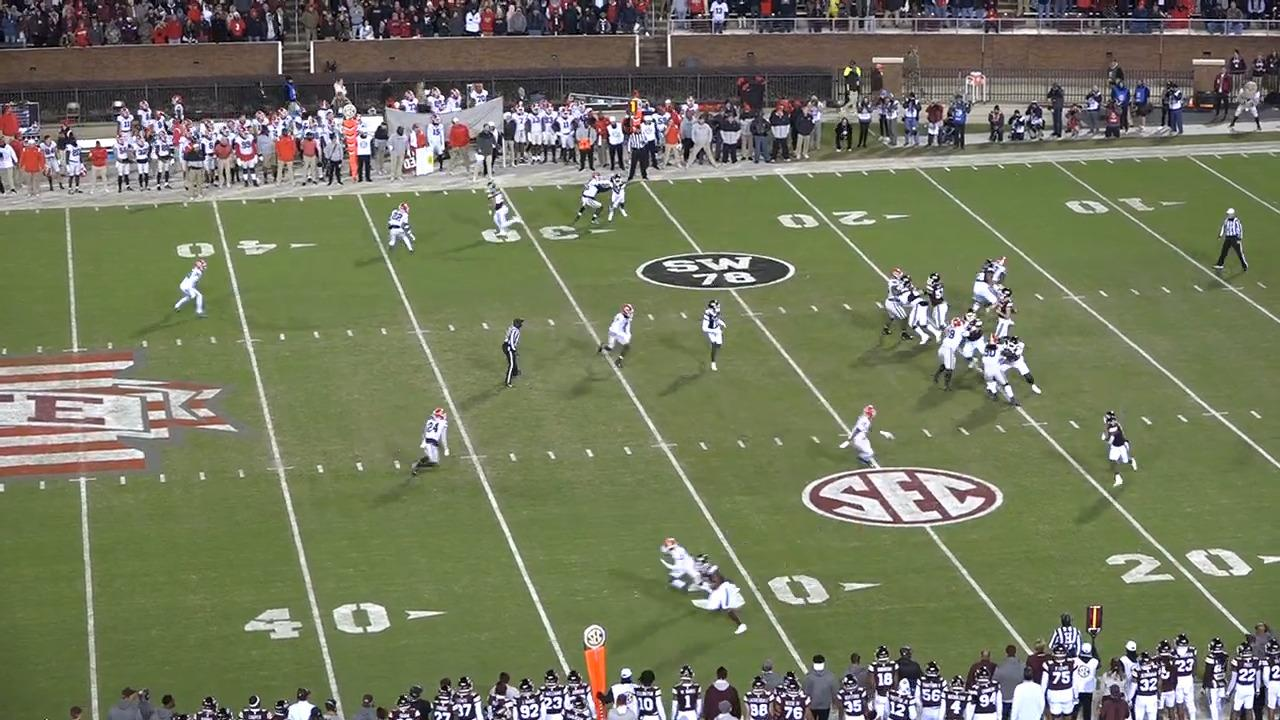defense: (838, 406, 886, 475), (412, 406, 455, 480), (930, 315, 968, 392), (973, 340, 1014, 411), (657, 540, 703, 601), (599, 305, 638, 372), (169, 259, 209, 322), (877, 267, 910, 339), (386, 201, 419, 257), (576, 172, 606, 227), (983, 259, 1004, 302)
oline: (895, 283, 938, 349), (1008, 338, 1045, 400), (956, 313, 990, 374), (924, 271, 951, 341), (972, 260, 1002, 318)
qb: (988, 286, 1013, 338)
ref: (1216, 208, 1251, 275), (503, 318, 530, 392), (1048, 608, 1083, 661), (630, 125, 658, 186)
skill: (699, 552, 756, 636), (1104, 407, 1144, 489), (703, 300, 732, 375), (487, 178, 517, 239), (603, 175, 626, 227)
